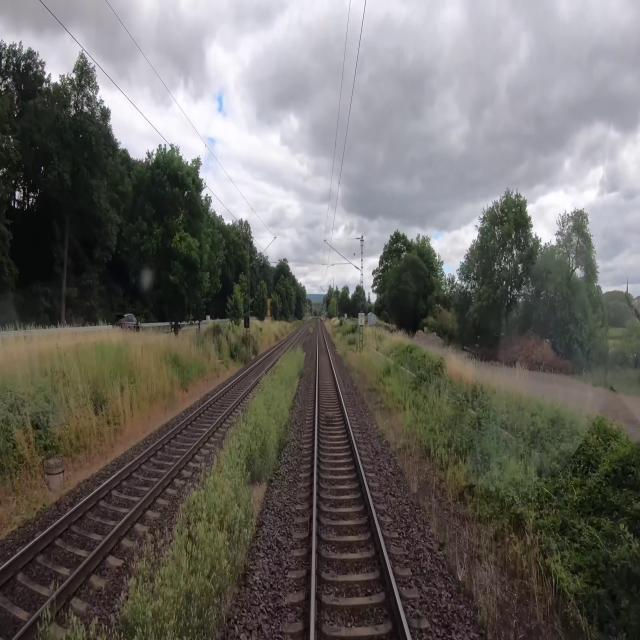Plant: (37, 343, 310, 639), (325, 413, 334, 422)
